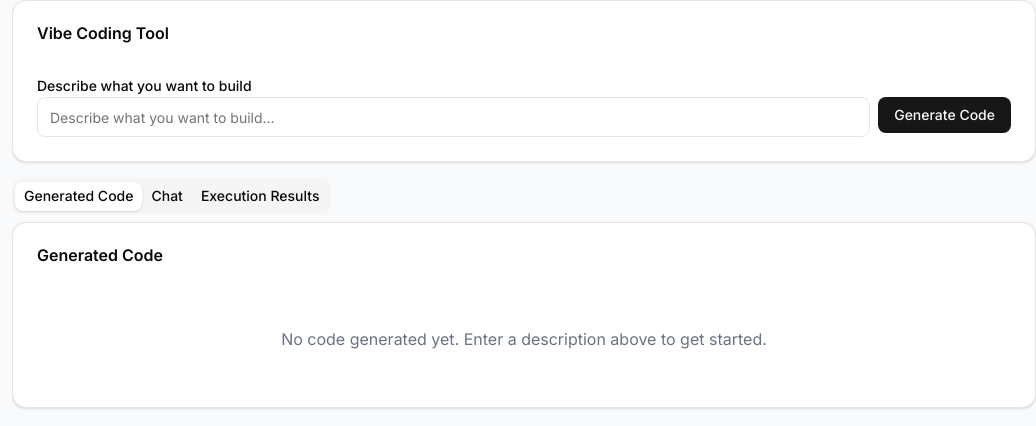
Test: VibeCodingTool › Component Initialization › should display execution results panel
Click on the results tab to make it visible
Click the tab "Execution Results". click: (260, 196)
box: [192,182,328,210]
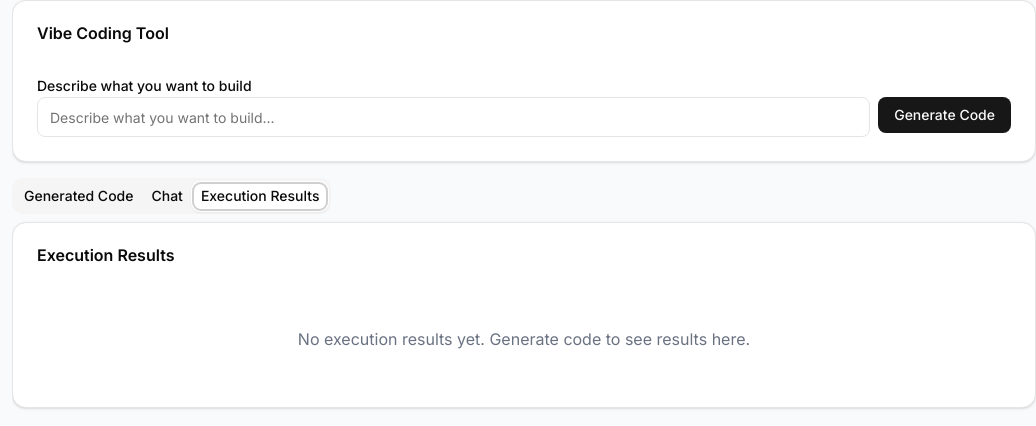
Now the text "No execution results yet. Generate code to see results here." is shown, box [298,329,750,349]
